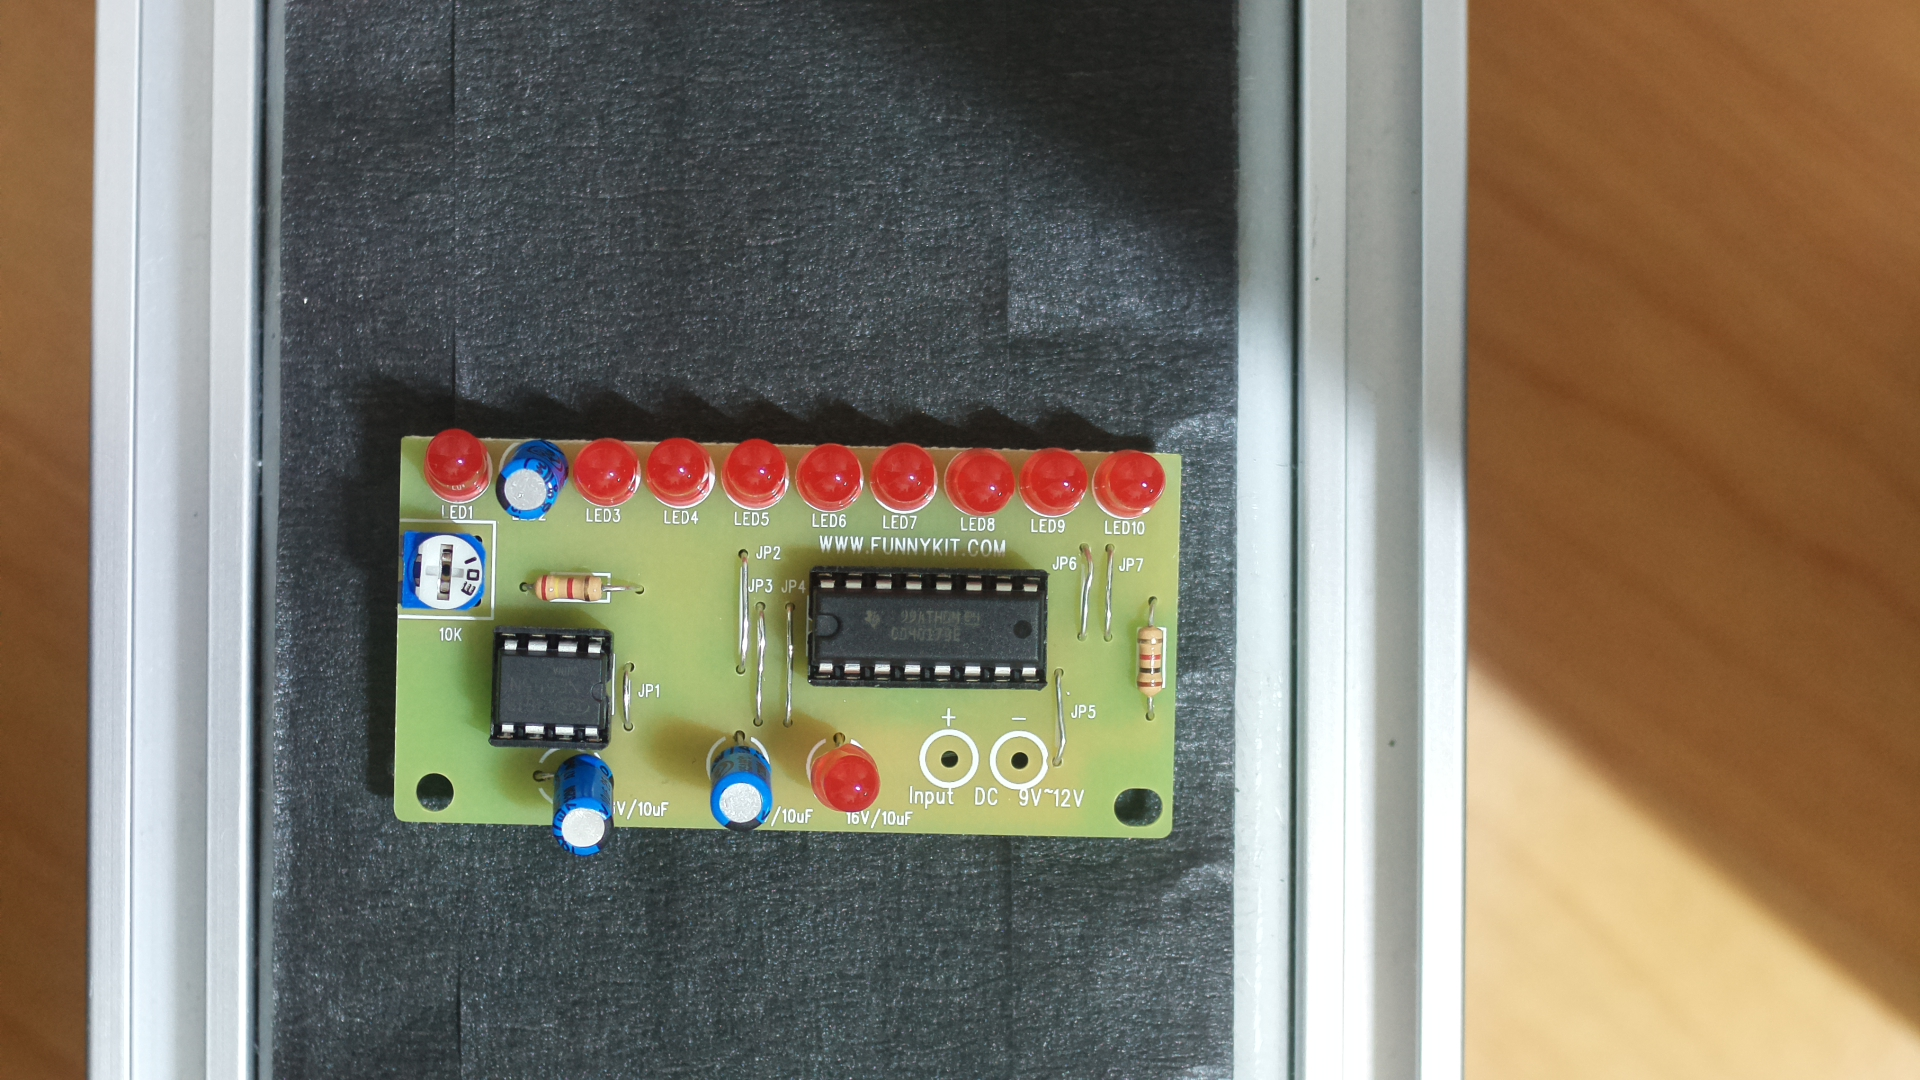B_Misordered: (381, 411, 1193, 861)
